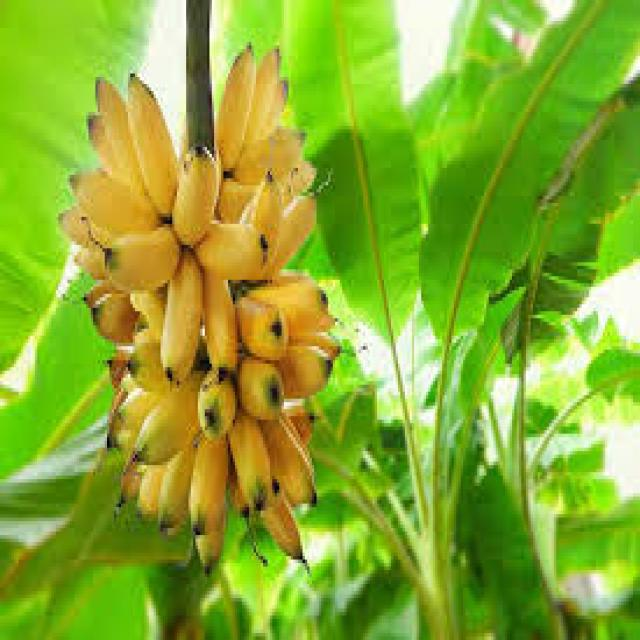banana: (56, 39, 340, 574)
